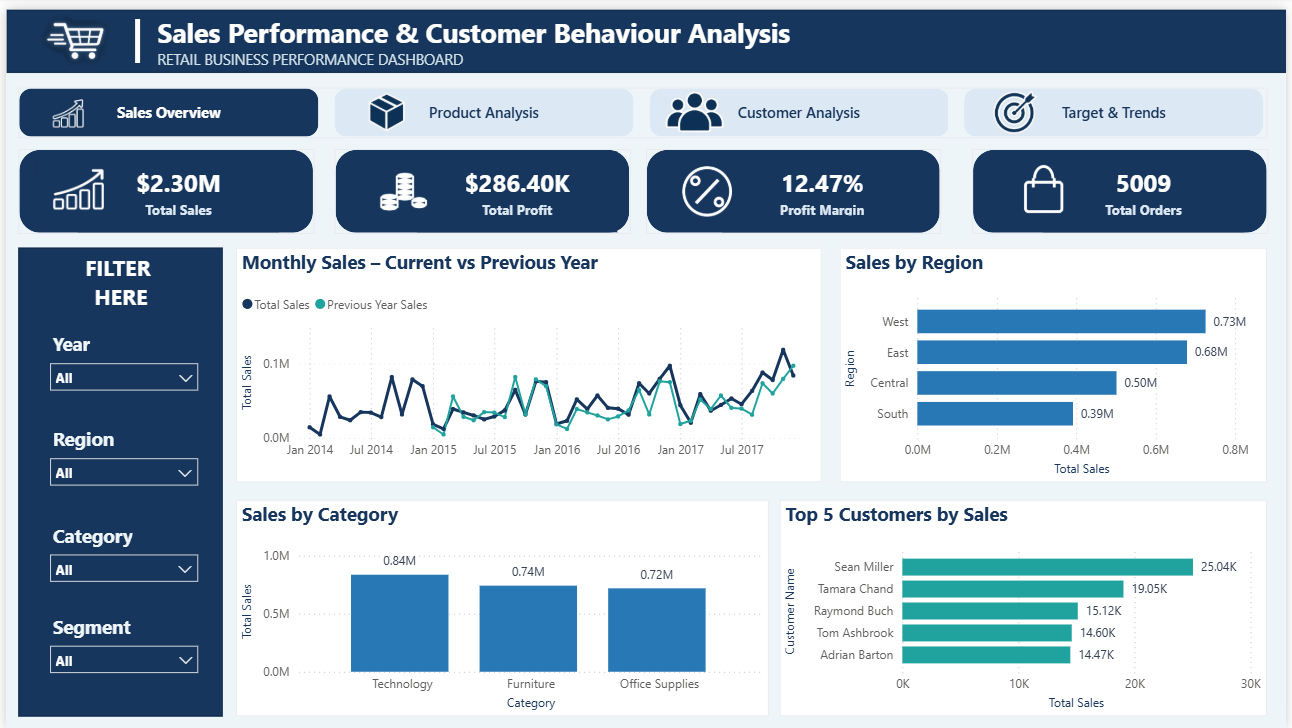

The dashboard page shown, as its layout file describes it:
{"tool":"powerbi","page":{"name":"Sales Overview","canvas":[1280,720],"ordinal":0},"visuals":[{"type":"shape","box":[640,140,295,85],"z":0},{"type":"shape","box":[12.9,140,295.7,85],"z":1000},{"type":"shape","box":[328.6,140,295.7,85],"z":2000},{"type":"shape","box":[965.7,140,295.7,85],"z":3000},{"type":"shape","box":[0,0,1400,65],"z":4000},{"type":"textbox","box":[145.7,0,957.1,65.7],"z":5000},{"type":"image","box":[0,0,142.9,65.7],"z":6000},{"type":"pageNavigator","box":[12.9,78.6,1248.6,50],"z":7000},{"type":"cardVisual","fields":{"Data":["Fact_Sales.Total Sales"]},"box":[72.9,142.9,200,81],"z":8000},{"type":"cardVisual","fields":{"Data":["Fact_Sales.Total Profit"]},"box":[411.4,142.9,200,81],"z":9000},{"type":"cardVisual","fields":{"Data":["Fact_Sales.Profit Margin"]},"box":[715.7,142.9,200,81],"z":10000},{"type":"cardVisual","fields":{"Data":["Fact_Sales.Total Orders"]},"box":[1037.1,142.9,200,81],"z":11000},{"type":"lineChart","title":"Monthly Sales – Current vs Previous Year","fields":{"Category":["Dim_Date.Month Start"],"Y":["Fact_Sales.Total Sales","Fact_Sales.Previous Year Sales"]},"box":[230,238.6,585.7,234.3],"z":12000},{"type":"clusteredBarChart","title":"Sales by Region","fields":{"Category":["Fact_Sales.Region"],"Y":["Fact_Sales.Total Sales"]},"box":[834.3,238.6,427.1,234.3],"z":13000},{"type":"clusteredColumnChart","title":"Sales by Category","fields":{"Category":["Fact_Sales.Category"],"Y":["Fact_Sales.Total Sales"]},"box":[230,491.4,532.9,215.7],"z":14000},{"type":"clusteredBarChart","title":"Top 5 Customers by Sales","fields":{"Category":["Fact_Sales.Customer Name"],"Y":["Fact_Sales.Total Sales"]},"box":[774.3,491.4,487.1,215.7],"z":15000},{"type":"image","box":[28.6,142.9,87.1,77.1],"z":16000},{"type":"image","box":[108.6,251.4,121.4,42.9],"z":17000},{"type":"shape","box":[12.9,238.6,204.3,468.6],"z":18000},{"type":"slicer","title":"Year","fields":{"Values":["Dim_Date.Year"]},"box":[34.3,317.1,168.6,78.6],"z":19000},{"type":"slicer","fields":{"Values":["Fact_Sales.Region"]},"box":[34.3,412.9,168,78],"z":20000},{"type":"slicer","fields":{"Values":["Fact_Sales.Category"]},"box":[34.3,508.6,168,78],"z":21000},{"type":"slicer","title":"Segment","fields":{"Values":["Fact_Sales.Segment"]},"box":[34.3,600,168.6,78.6],"z":22000},{"type":"image","box":[354.3,148.6,87.1,67.1],"z":23000},{"type":"image","box":[657.1,148.6,87.1,67.1],"z":24000},{"type":"image","box":[1001.4,147.1,72.9,67.1],"z":25000},{"type":"image","box":[977.1,78.6,61.4,48.6],"z":26000},{"type":"image","box":[34.3,87.1,57.1,34.3],"z":27000},{"type":"image","box":[657.1,75.7,61.4,52.9],"z":28000},{"type":"image","box":[350,82.9,61.4,41.4],"z":29000},{"type":"shape","box":[108.6,10,45.7,44.3],"z":30000},{"type":"textbox","box":[50,238.6,130,78.6],"z":31000}]}

Visuals, with their boxes in screenshot pixels (x1, y1, x2, y2), scaled from the page's 1280x720 canvas onto the 1292x728 screenshot:
shape: bbox=(646, 142, 944, 228)
shape: bbox=(13, 142, 311, 228)
shape: bbox=(332, 142, 630, 228)
shape: bbox=(975, 142, 1273, 228)
shape: bbox=(0, 0, 1291, 66)
textbox: bbox=(147, 0, 1113, 66)
image: bbox=(0, 0, 144, 66)
pageNavigator: bbox=(13, 79, 1273, 130)
cardVisual - Fact_Sales.Total Sales: bbox=(74, 144, 275, 226)
cardVisual - Fact_Sales.Total Profit: bbox=(415, 144, 617, 226)
cardVisual - Fact_Sales.Profit Margin: bbox=(722, 144, 924, 226)
cardVisual - Fact_Sales.Total Orders: bbox=(1047, 144, 1249, 226)
"Monthly Sales – Current vs Previous Year" lineChart: bbox=(232, 241, 823, 478)
"Sales by Region" clusteredBarChart: bbox=(842, 241, 1273, 478)
"Sales by Category" clusteredColumnChart: bbox=(232, 497, 770, 715)
"Top 5 Customers by Sales" clusteredBarChart: bbox=(782, 497, 1273, 715)
image: bbox=(29, 144, 117, 222)
image: bbox=(110, 254, 232, 298)
shape: bbox=(13, 241, 219, 715)
"Year" slicer: bbox=(35, 321, 205, 400)
slicer - Fact_Sales.Region: bbox=(35, 417, 204, 496)
slicer - Fact_Sales.Category: bbox=(35, 514, 204, 593)
"Segment" slicer: bbox=(35, 607, 205, 686)
image: bbox=(358, 150, 446, 218)
image: bbox=(663, 150, 751, 218)
image: bbox=(1011, 149, 1084, 217)
image: bbox=(986, 79, 1048, 129)
image: bbox=(35, 88, 92, 123)
image: bbox=(663, 77, 725, 130)
image: bbox=(353, 84, 415, 126)
shape: bbox=(110, 10, 156, 55)
textbox: bbox=(50, 241, 182, 321)
